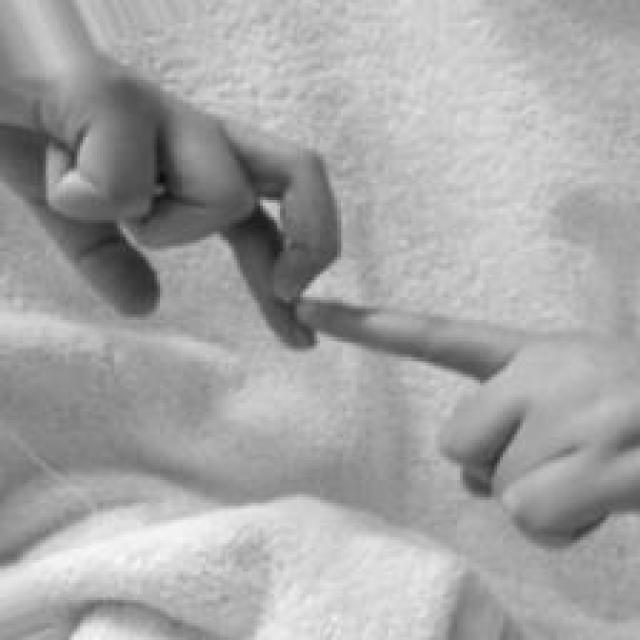R: (3, 0, 640, 556)
